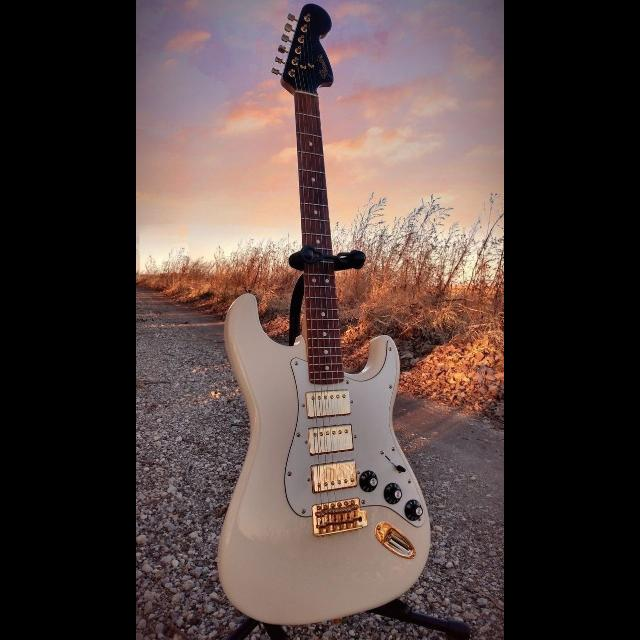Electric-Guitar: (164, 11, 466, 622)
